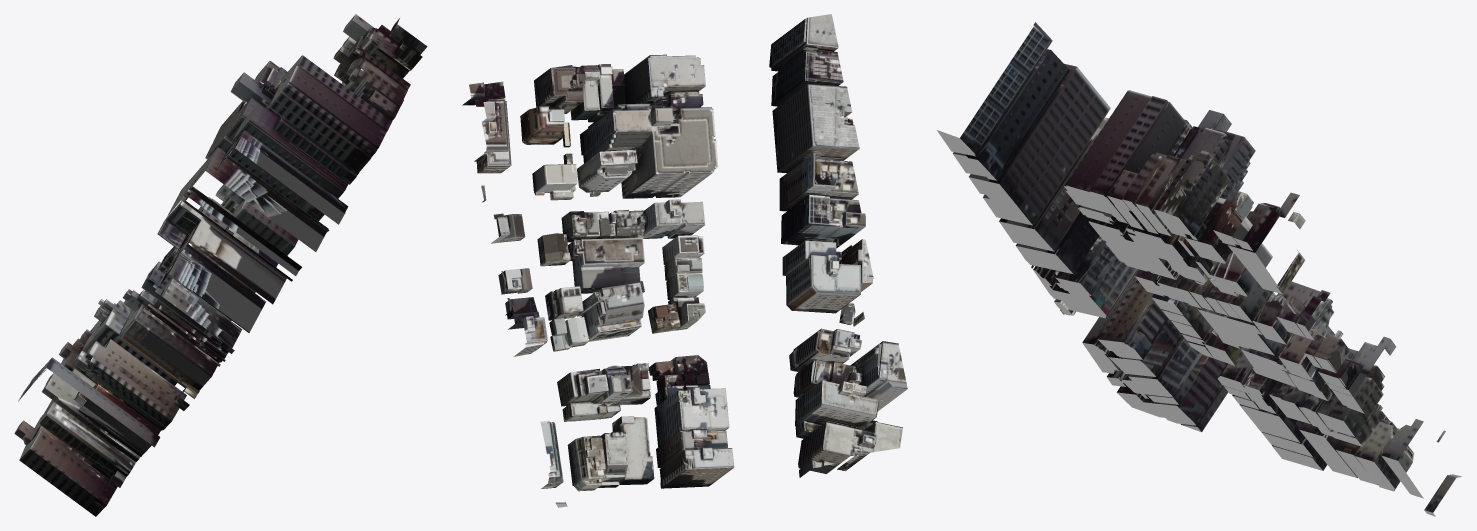
File: 39534_bldg_Building.glb
The picture shows the model from 3 angles, left to right: view 1: azimuth 30°, elevation 25°; view 2: azimuth 150°, elevation 25°; view 3: azimuth 270°, elevation 25°; orthographic projection. The views are drawn at different scales.
Size of the model in its own units: 168 by 150 by 160.
4 materials, 3 textured.
